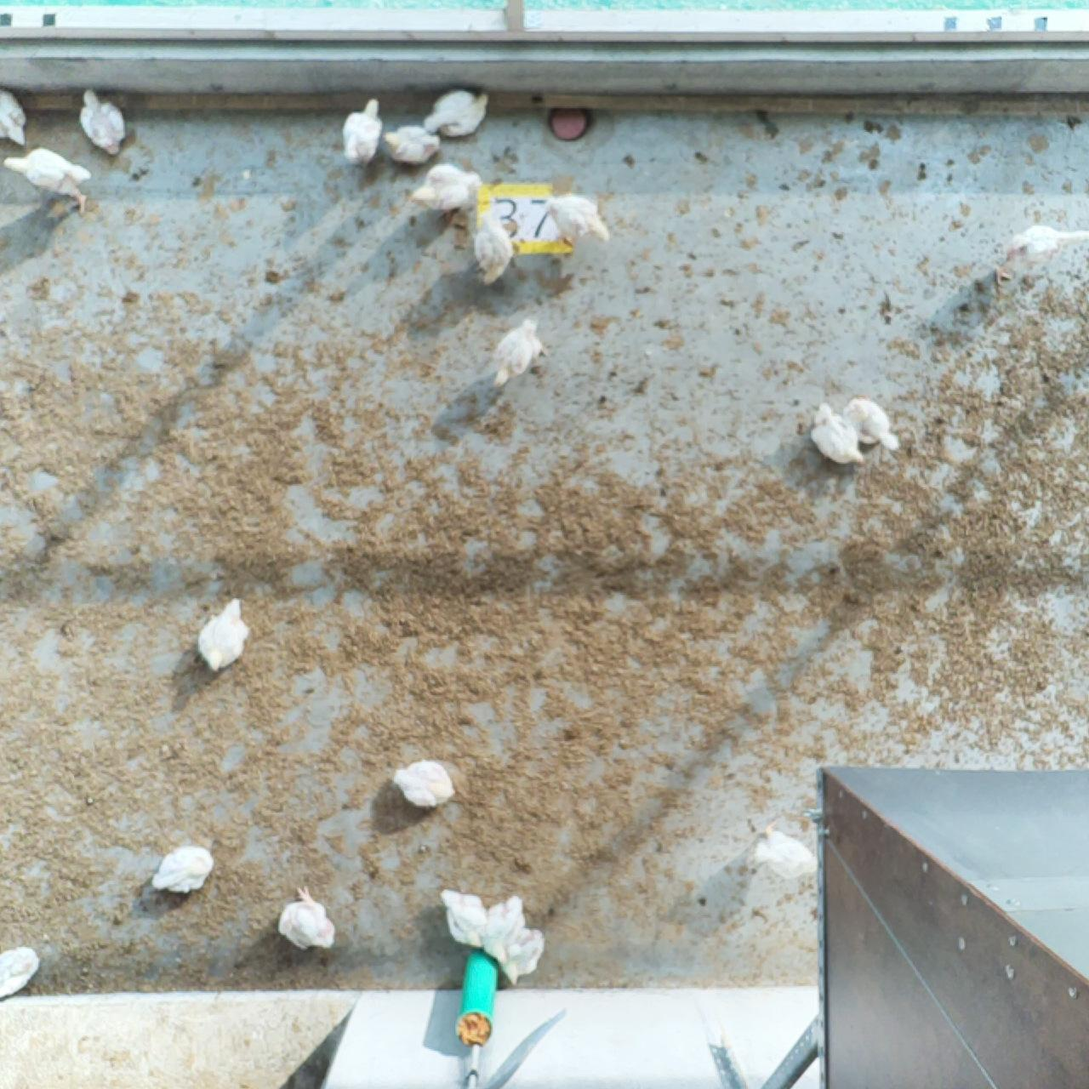chicken: (6, 148, 90, 209), (197, 598, 248, 670), (280, 890, 338, 951), (544, 194, 612, 246), (417, 160, 478, 216), (493, 321, 544, 386), (79, 88, 124, 157), (814, 405, 865, 465), (427, 88, 488, 135), (396, 761, 454, 809), (847, 402, 900, 453), (154, 847, 214, 892), (341, 98, 380, 167), (473, 212, 510, 283), (442, 890, 485, 949), (498, 931, 545, 984), (487, 892, 525, 955), (384, 124, 440, 164), (1, 946, 39, 996), (1, 93, 26, 146)
